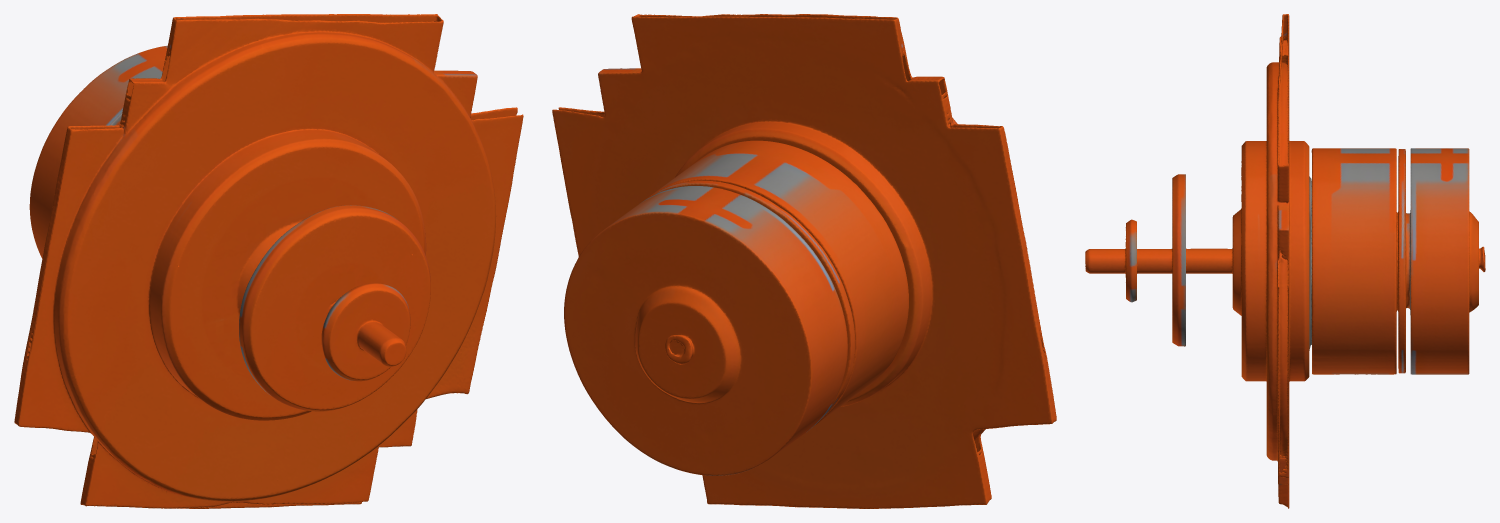
The model's file is Rmutr.glb.
The picture shows the model from 3 angles, left to right: view 1: azimuth 30°, elevation 25°; view 2: azimuth 150°, elevation 25°; view 3: azimuth 270°, elevation 25°; orthographic projection. The views are drawn at different scales.
Parts seen in each view (by area): view 1: tripo_node_45b415f2-3468-40fd-b46d-db5db713868d; view 2: tripo_node_45b415f2-3468-40fd-b46d-db5db713868d; view 3: tripo_node_45b415f2-3468-40fd-b46d-db5db713868d.
Part boxes in pixels (x1,y1,x2,y2): tripo_node_45b415f2-3468-40fd-b46d-db5db713868d: (14,14,523,508); tripo_node_45b415f2-3468-40fd-b46d-db5db713868d: (552,14,1056,508); tripo_node_45b415f2-3468-40fd-b46d-db5db713868d: (1085,14,1485,508).
Size of the model in its own units: 0.9891 by 1 by 0.8584.
1 material, 1 textured.
